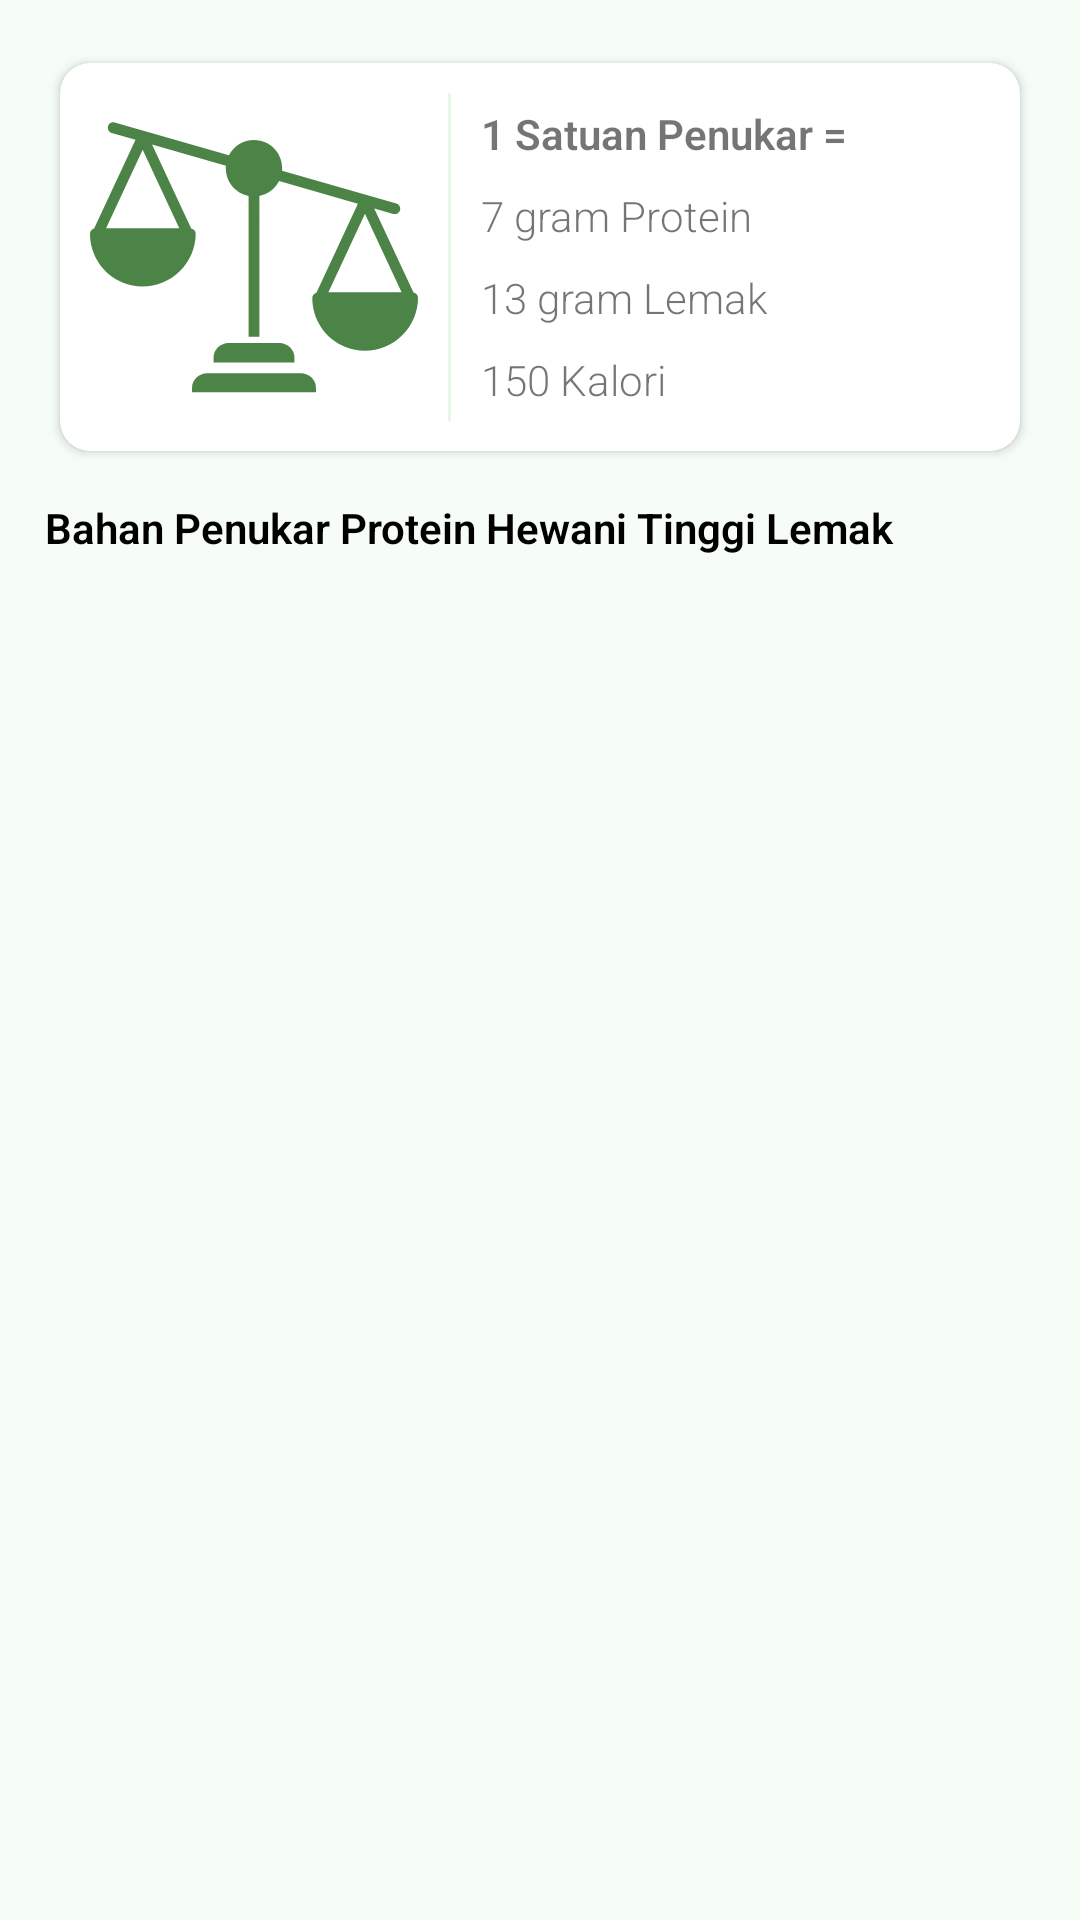

Named icons in this screenshot (1080x1920) and their bounding boxes, detection(x1, y1, x2, y2):
balance: detection(90, 122, 418, 393)
